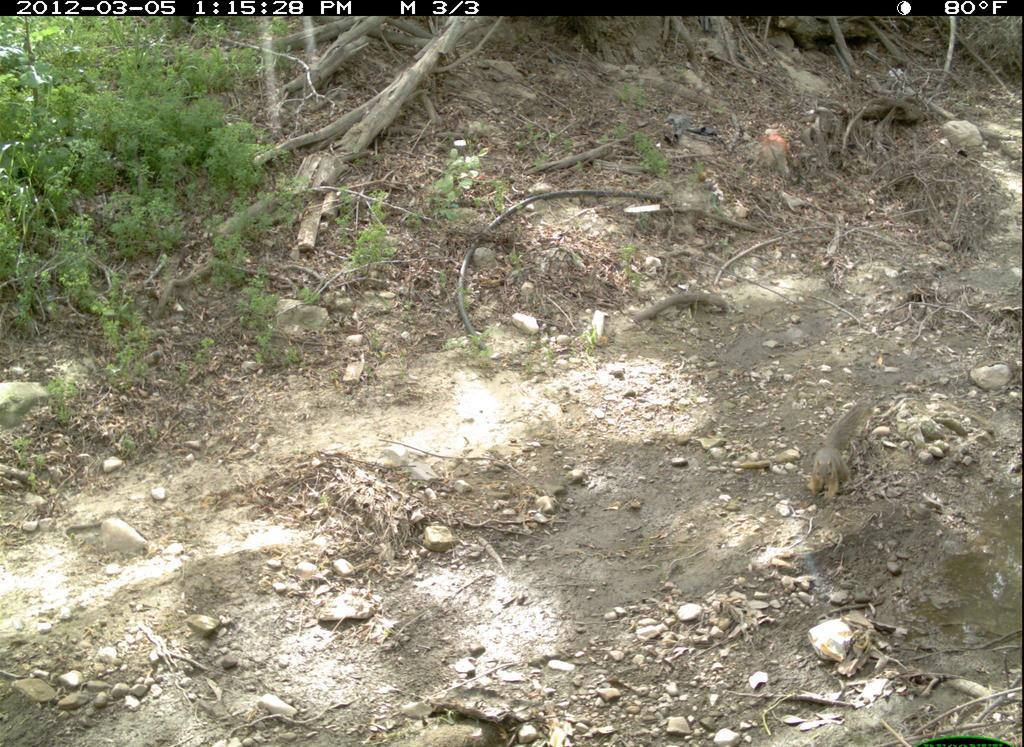squirrel: (808, 400, 877, 506)
